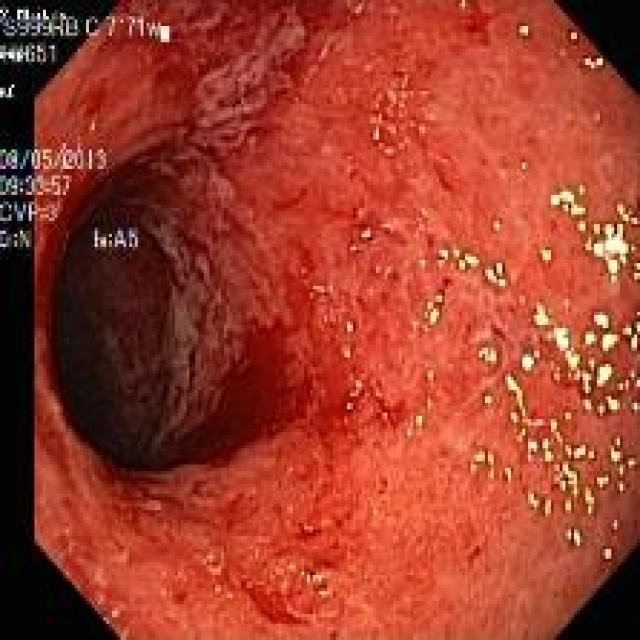ulcerative-colitis-grade-3: (35, 3, 640, 639)
